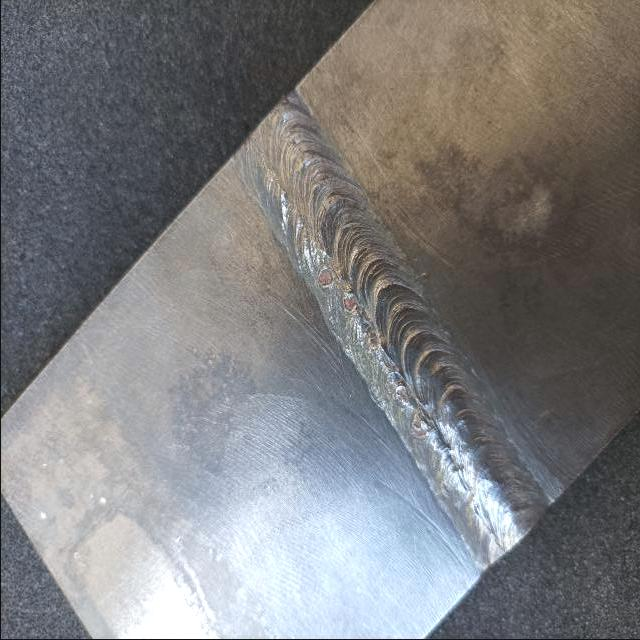defect: (337, 285, 358, 317), (315, 264, 336, 291), (391, 375, 407, 406), (406, 419, 424, 439), (277, 189, 290, 210)
